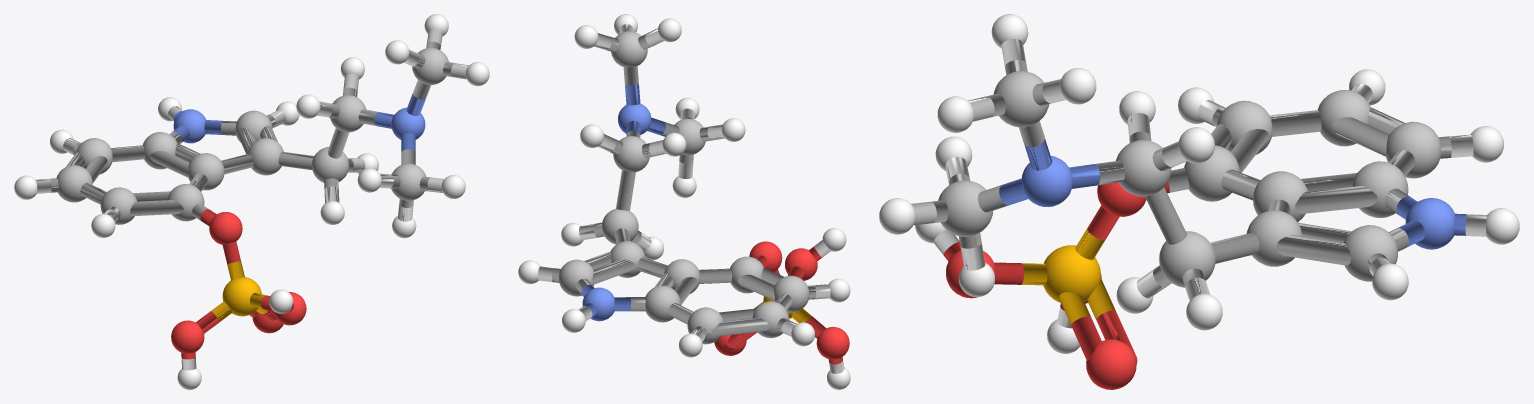
Rendered from Psilocybin.fbx.
3 renders of one model, left to right at view 1: azimuth 30°, elevation 25°; view 2: azimuth 150°, elevation 25°; view 3: azimuth 270°, elevation 25°, orthographic. The views are drawn at different scales.
Visible parts, largest first — view 1: P1_Atom, C8_Atom.001, C17_Atom, C9_Atom, C11_Atom, C10_Atom, C19_Atom, C18_Atom, O4_Atom.001, O2_Atom.001, C16_Atom, C14_Atom (+22 smaller); view 2: C12_Atom, C18_Atom, C11_Atom, C13_Atom, C9_Atom, O4_Atom.001, C16_Atom, C17_Atom, Cylinder20.001, C15_Atom, N6_Atom, C14_Atom (+33 smaller); view 3: P1_Atom, C19_Atom, C11_Atom, C15_Atom, C9_Atom, C18_Atom, O5_Atom.001, C13_Atom, C8_Atom.001, N7_Atom, C14_Atom, N6_Atom (+43 smaller).
Part boxes in pixels (x1,y1,x2,y2): P1_Atom: (222, 277, 261, 316); C8_Atom.001: (247, 138, 283, 175); C17_Atom: (56, 165, 92, 202); C9_Atom: (311, 147, 349, 182); C11_Atom: (330, 95, 366, 132); C10_Atom: (188, 153, 224, 190); C19_Atom: (391, 163, 426, 200); C18_Atom: (412, 47, 448, 84); O4_Atom.001: (171, 320, 204, 353); O2_Atom.001: (209, 212, 242, 244); C16_Atom: (100, 187, 137, 224); C14_Atom: (167, 184, 204, 221); C12_Atom: (645, 285, 680, 322); C18_Atom: (611, 31, 647, 67); C11_Atom: (613, 136, 649, 172); C13_Atom: (558, 259, 593, 296); C9_Atom: (601, 209, 638, 244); O4_Atom.001: (816, 326, 849, 359); C16_Atom: (774, 275, 808, 312); C17_Atom: (752, 301, 789, 338); Cylinder20.001: (710, 318, 769, 336); C15_Atom: (687, 307, 723, 344); N6_Atom: (582, 287, 614, 321); C14_Atom: (730, 256, 763, 293); P1_Atom: (1043, 245, 1100, 302); C19_Atom: (938, 180, 992, 236); C11_Atom: (1116, 140, 1171, 196); C15_Atom: (1385, 121, 1440, 178); C9_Atom: (1159, 231, 1215, 287); C18_Atom: (993, 71, 1049, 127); O5_Atom.001: (1086, 339, 1136, 389); C13_Atom: (1343, 225, 1397, 281); C8_Atom.001: (1246, 210, 1302, 266); N7_Atom: (1021, 156, 1072, 206); C14_Atom: (1184, 145, 1239, 201); N6_Atom: (1405, 198, 1454, 249).
Bounding box in the file's own units: 812 × 726 × 885.
